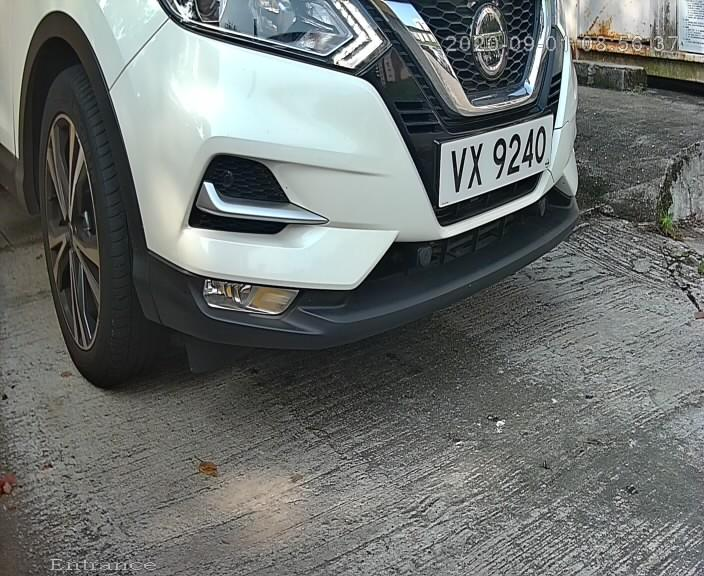License Plate: (428, 109, 554, 211)
